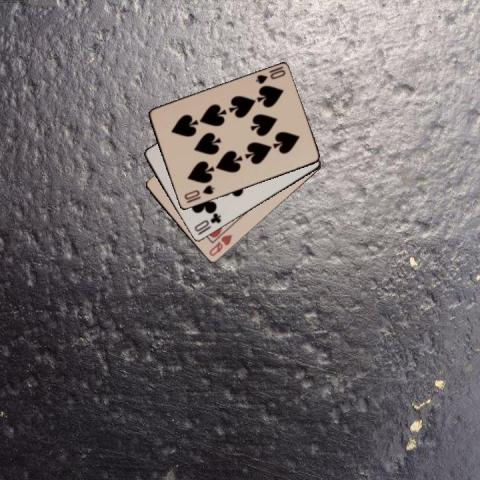10c: (191, 210, 223, 237)
10s: (182, 182, 215, 201), (252, 68, 286, 85)
Qh: (206, 231, 233, 258)
